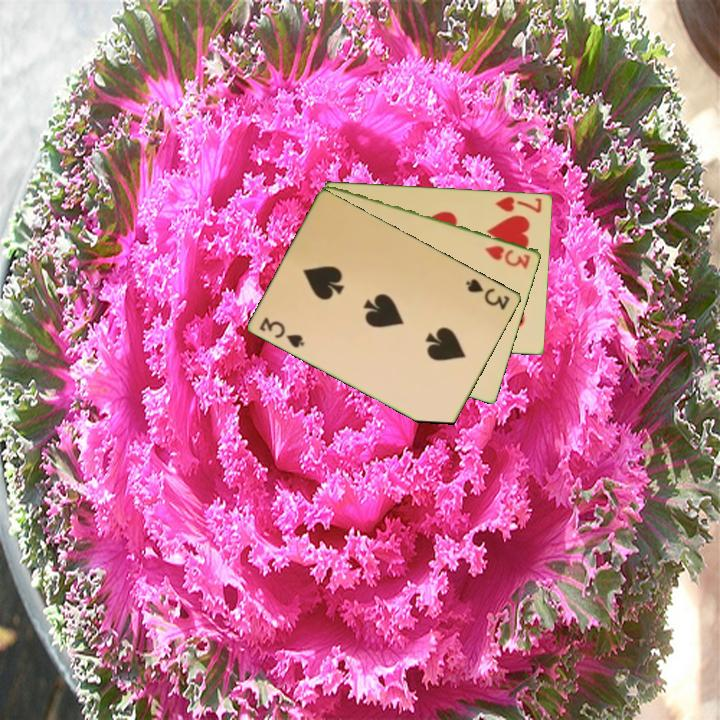3h: (482, 242, 534, 272)
3s: (256, 314, 308, 351), (463, 275, 513, 313)
7h: (492, 193, 545, 215)
